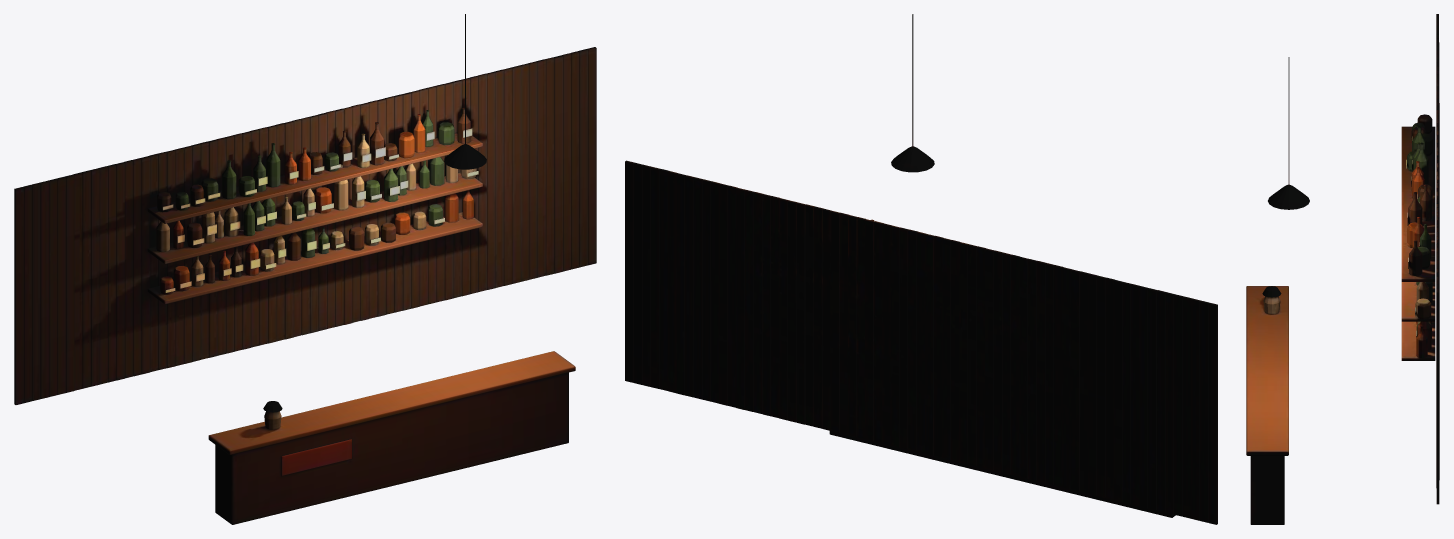
The model's file is studio-room.glb.
The picture shows the model from 3 angles, left to right: view 1: azimuth 30°, elevation 25°; view 2: azimuth 150°, elevation 25°; view 3: azimuth 270°, elevation 25°; orthographic projection. The views are drawn at different scales.
Parts seen in each view (by area): view 1: Studio_Room; view 2: Studio_Room; view 3: Studio_Room.
Part boxes in pixels (bbox=[...]): Studio_Room: bbox=[14, 14, 596, 524]; Studio_Room: bbox=[625, 14, 1217, 524]; Studio_Room: bbox=[1246, 14, 1439, 524].
Bounding box in the file's own units: 62.07 × 44.45 × 18.18.
1 material, 1 textured.
